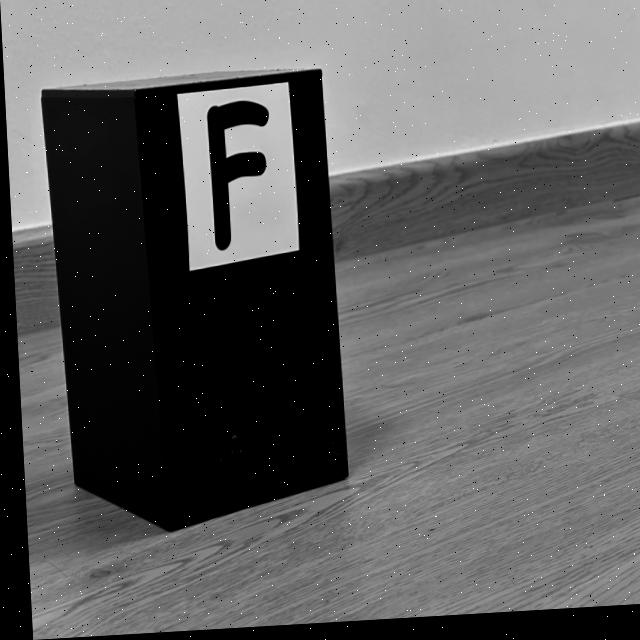F: (205, 104, 267, 252)
